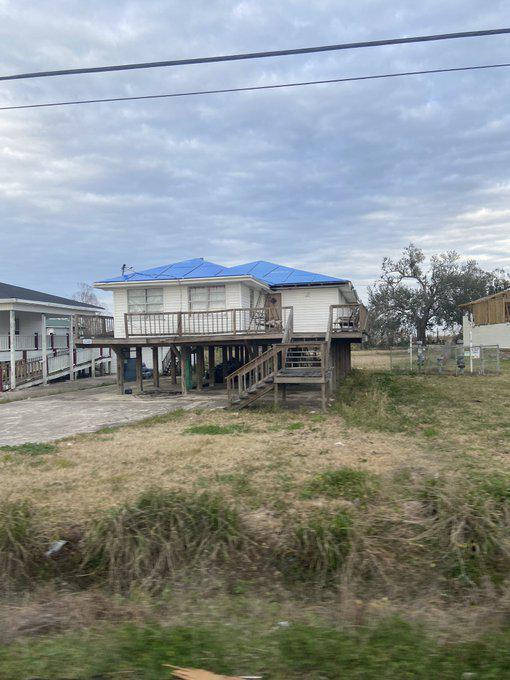minor: (61, 237, 383, 444)
